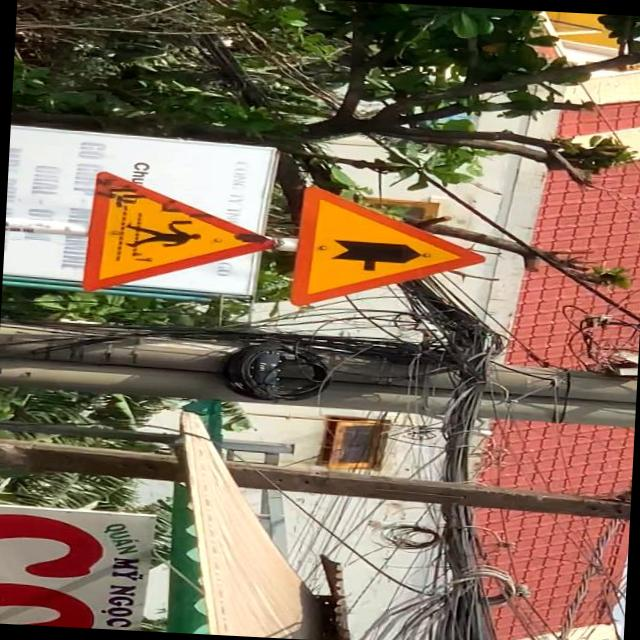W-207b: (285, 184, 490, 318)
W-224: (80, 170, 276, 301)
